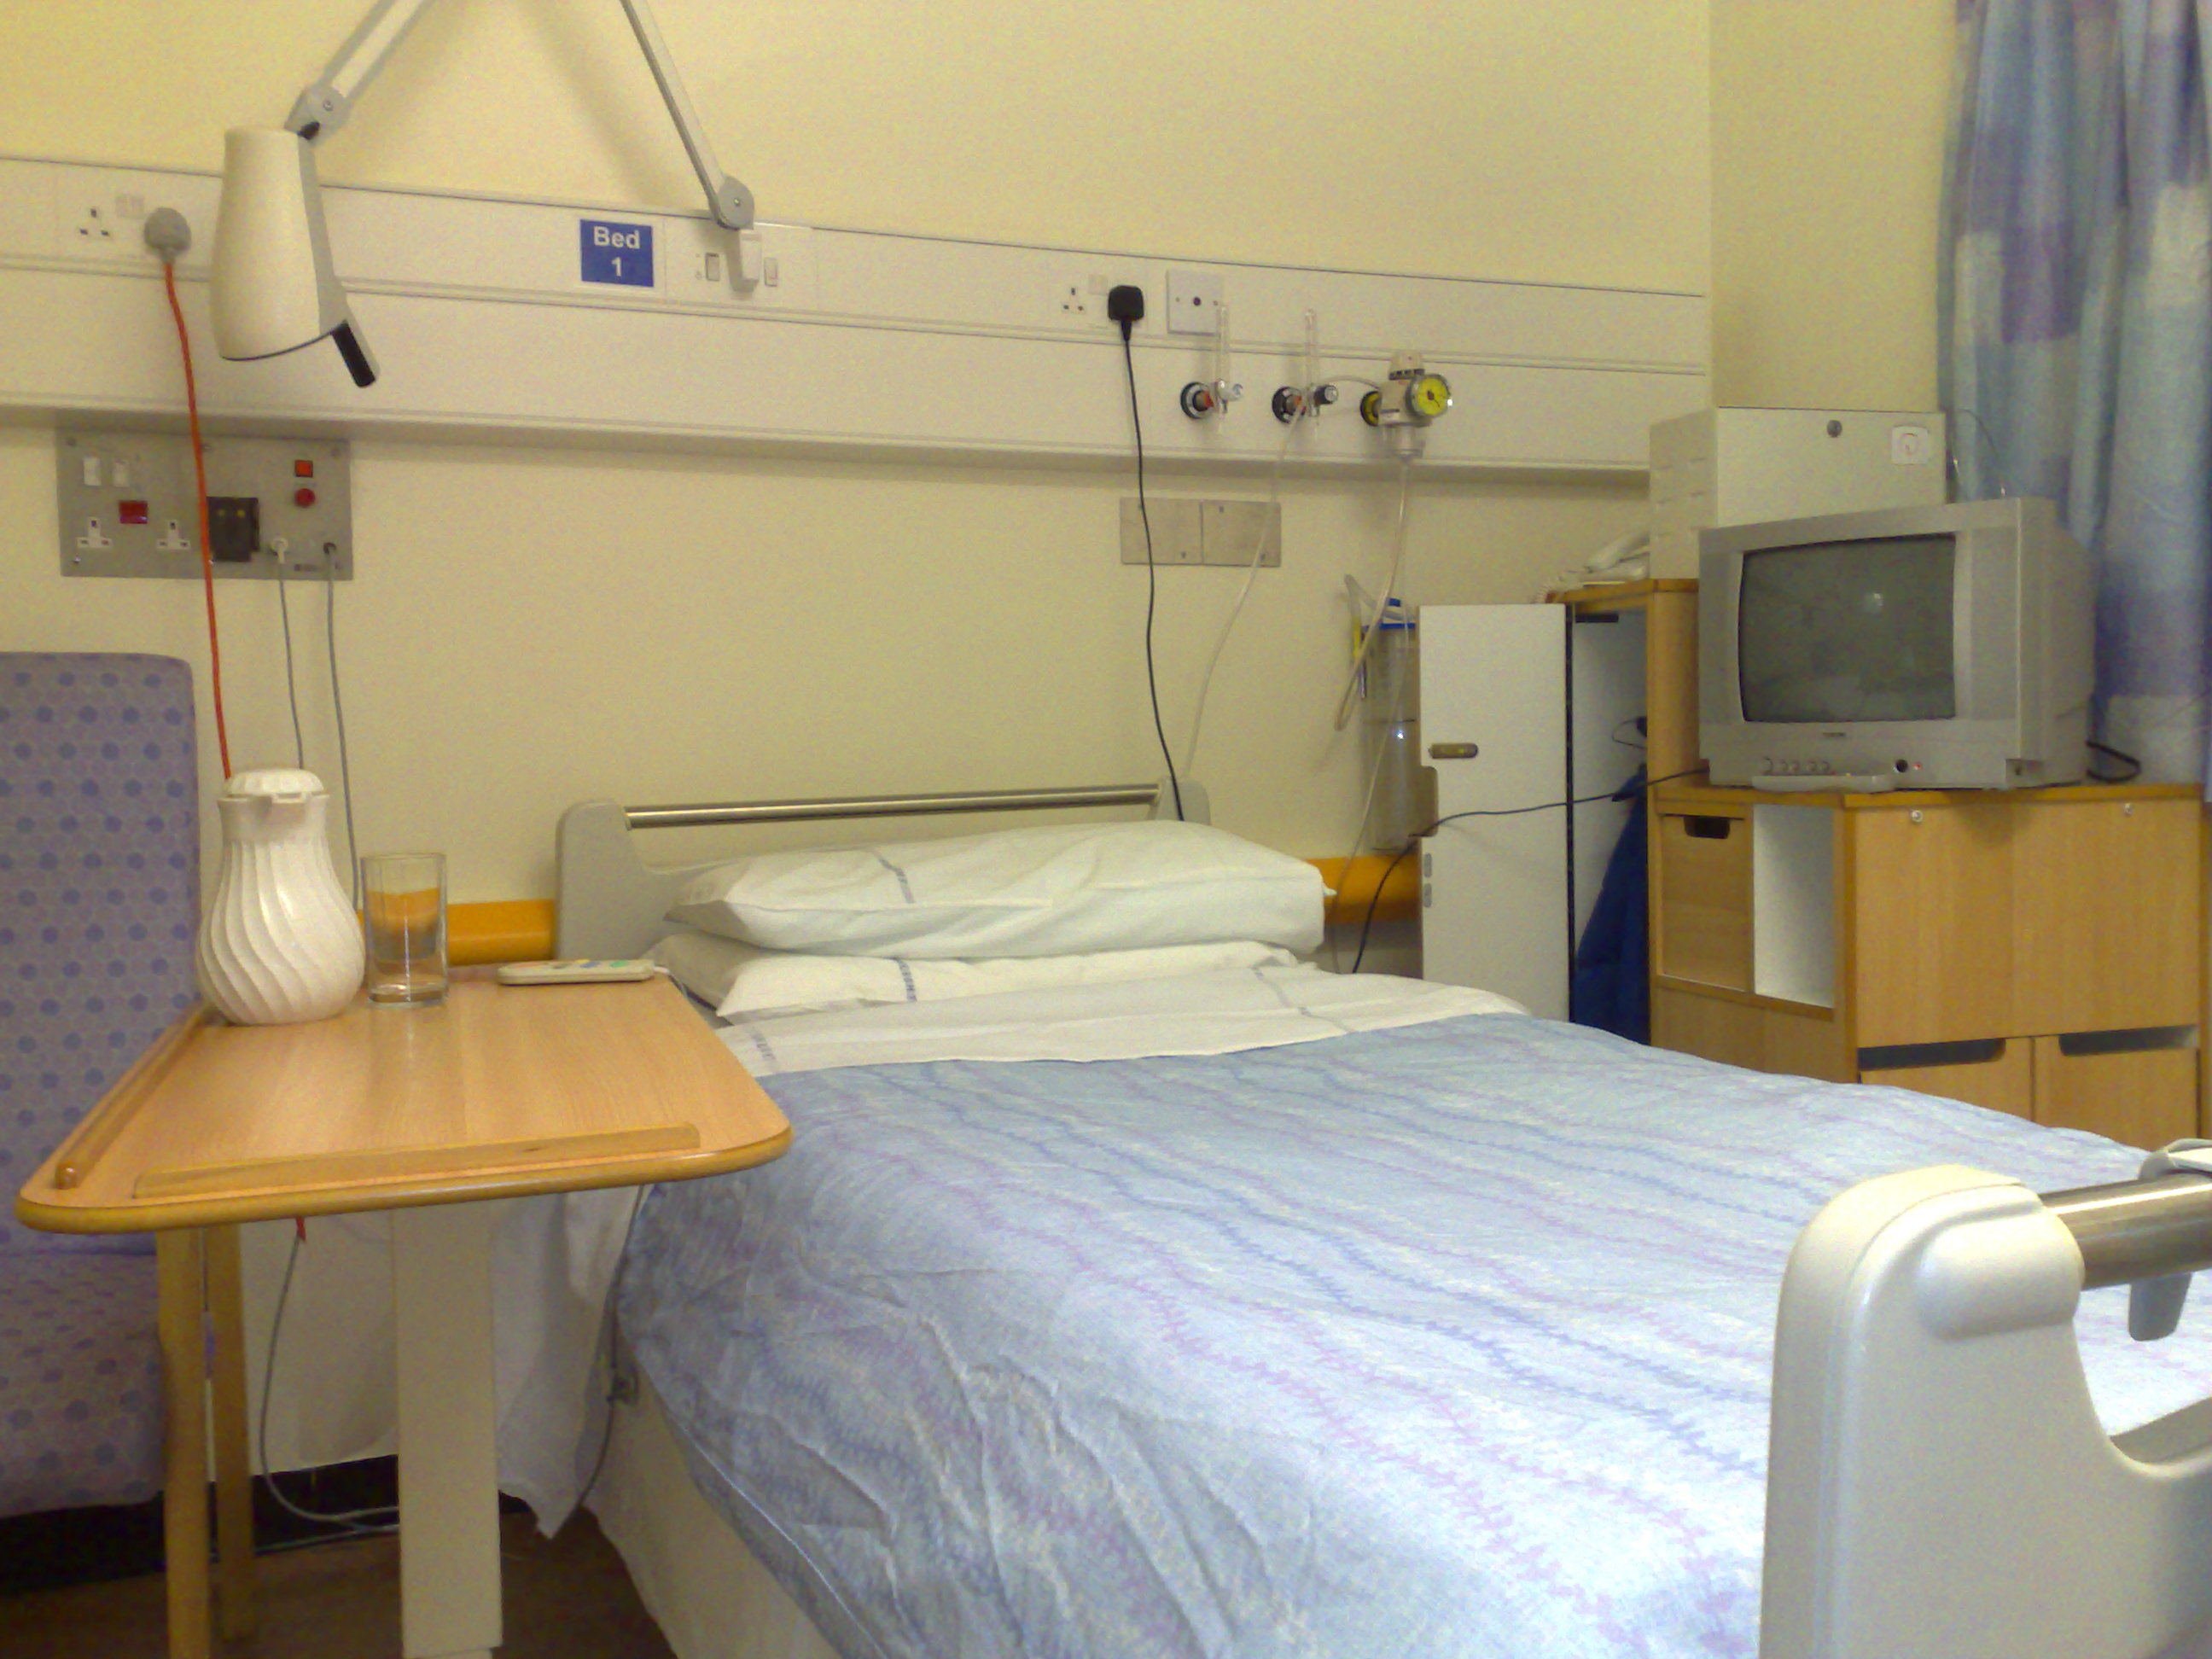bedside table: (87, 939, 817, 1204)
hospital bed: (535, 748, 2182, 1624)
